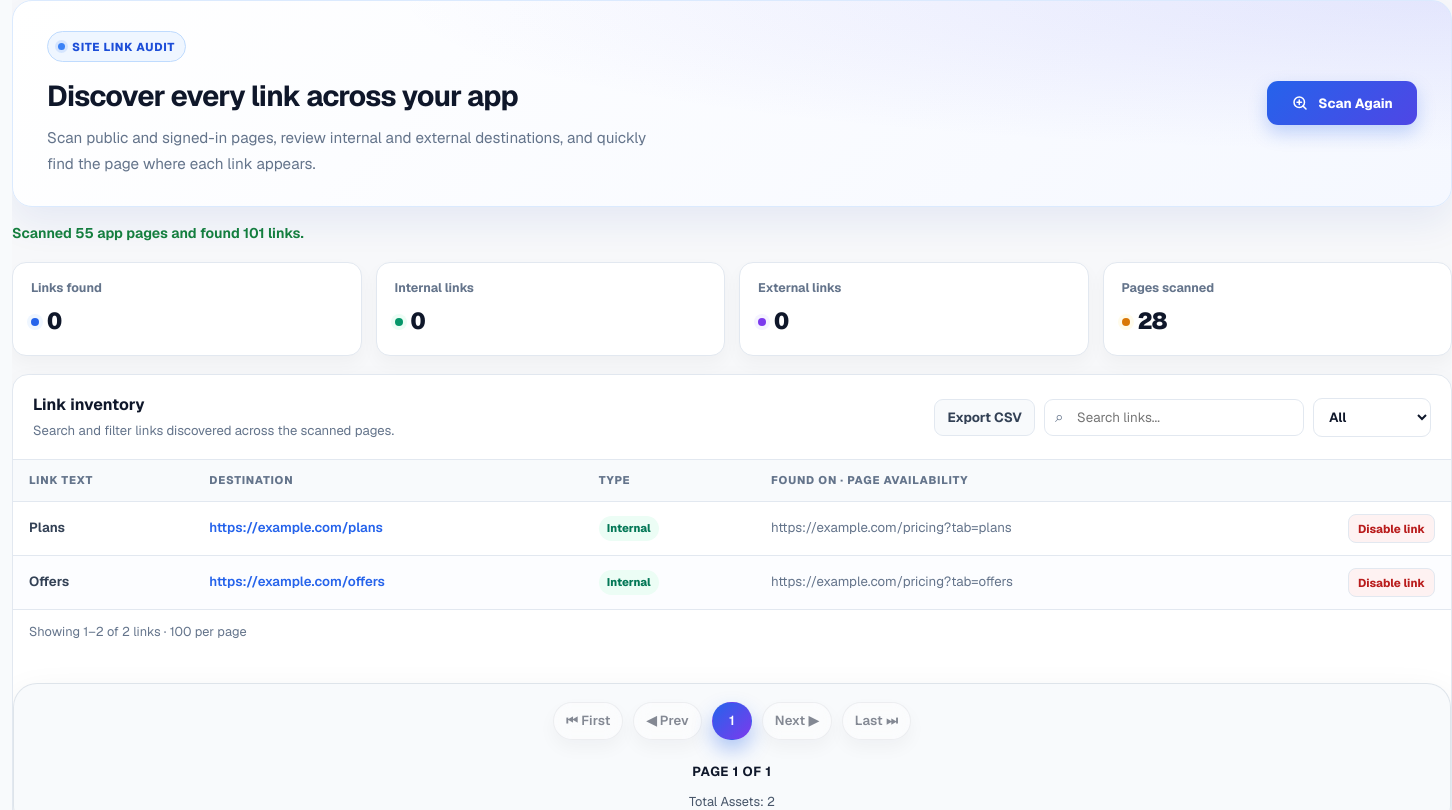
Test: LinksScanPanel › disables and re-enables the page shown in the last table column
The width and height of the screenshot is (1452, 810).
Click the button with aria-label "Disable link Plans on /pricing?tab=plans".
click(1392, 528)  # box 1348,514 -> 1435,543
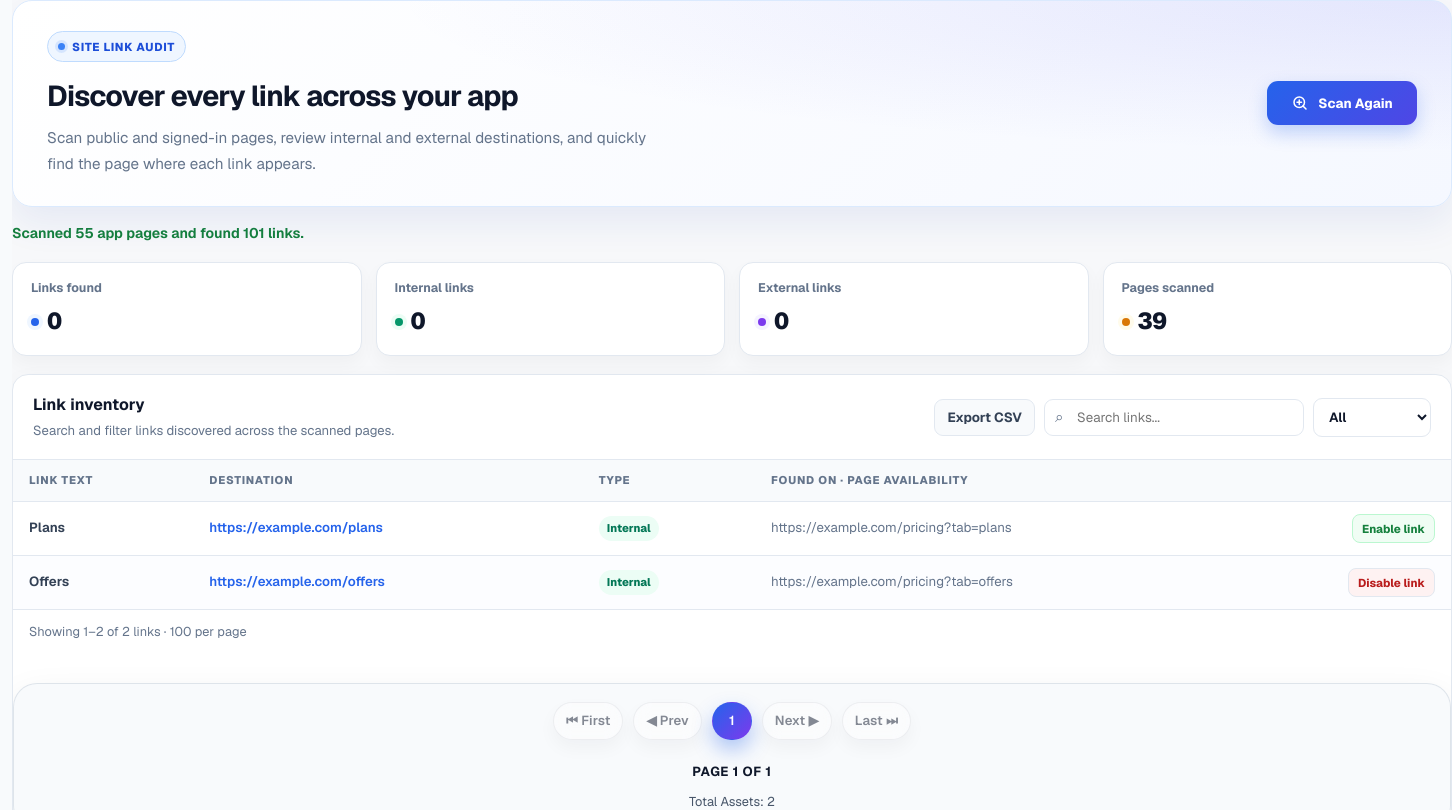
Expected: the button with aria-label "Disable link Offers on /pricing?tab=offers" is shown, 1348,568 -> 1435,597
Expected: the button with aria-label "Enable link Plans on /pricing?tab=plans" is shown
Click the button with aria-label "Enable link Plans on /pricing?tab=plans".
click(1394, 528)  # box 1352,514 -> 1435,543
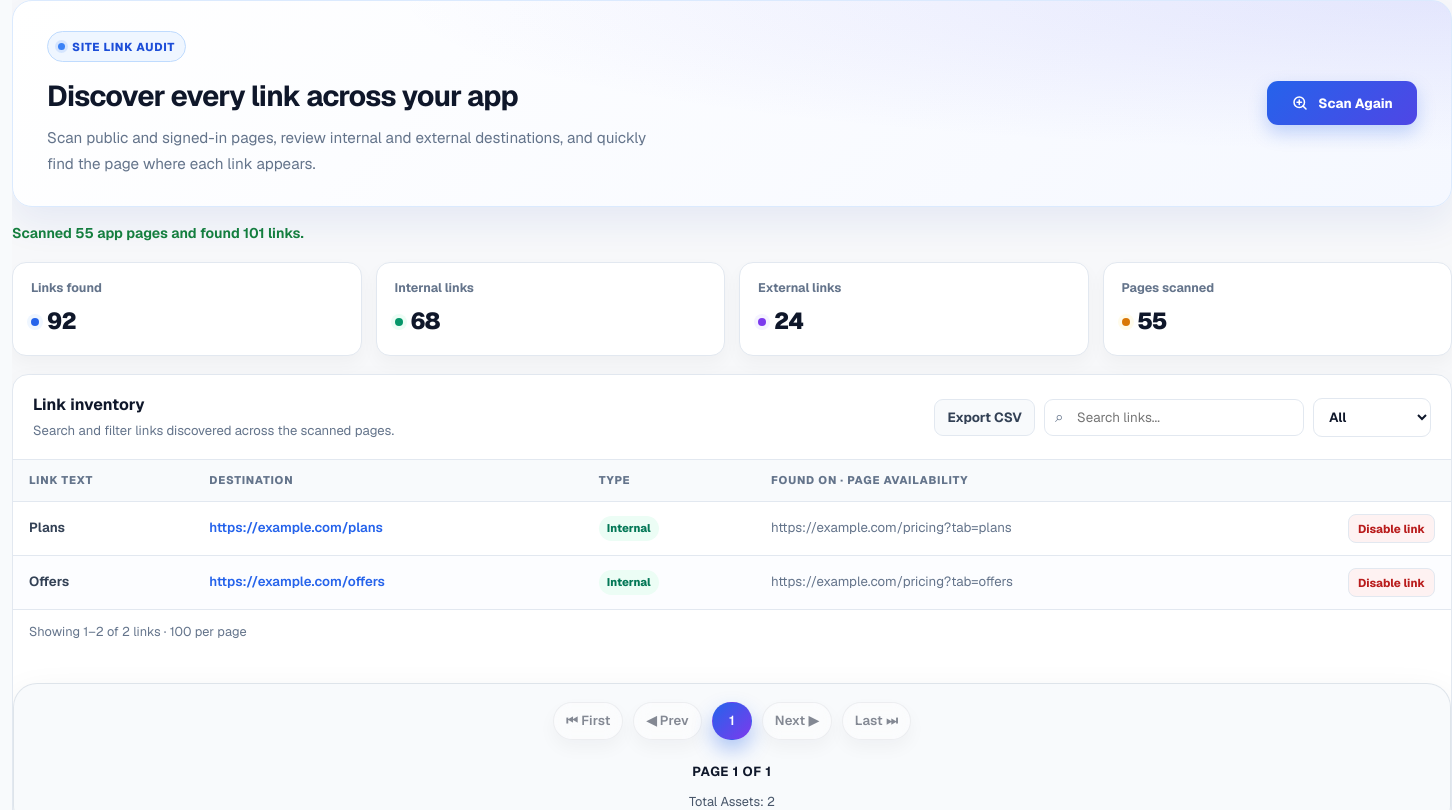
Expected: the button with aria-label "Disable link Plans on /pricing?tab=plans" is shown, 1348,514 -> 1435,543
